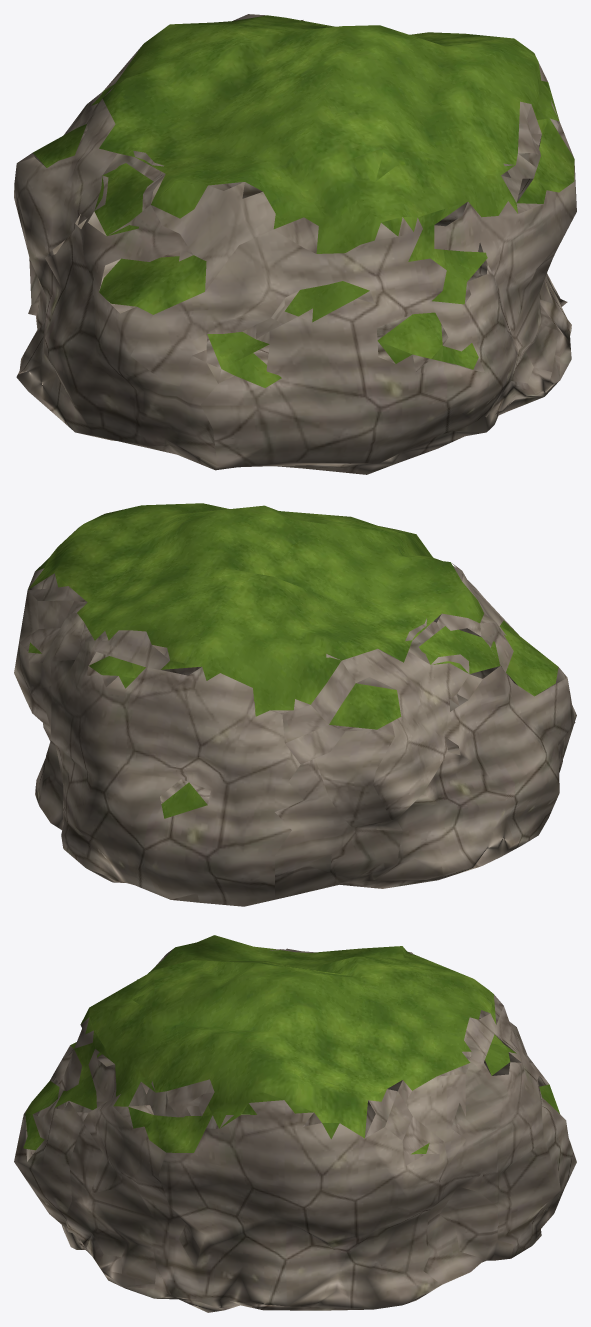
Rendered from rock_boulder.glb.
3 views of the same model, one above another, from view 1: azimuth 30°, elevation 25°; view 2: azimuth 150°, elevation 25°; view 3: azimuth 270°, elevation 25° (orthographic). The views are drawn at different scales.
Visible parts, largest first — view 1: rock_boulder_Rock; view 2: rock_boulder_Rock; view 3: rock_boulder_Rock.
Part boxes in pixels (x1,y1,x2,y2): rock_boulder_Rock: [14, 14, 576, 474]; rock_boulder_Rock: [14, 503, 576, 906]; rock_boulder_Rock: [14, 935, 576, 1312].
Bounding box in the file's own units: 2.16 × 1.32 × 2.25.
Materials: 2 (2 with a texture image).
